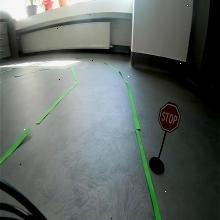stop: (158, 101, 181, 132)
